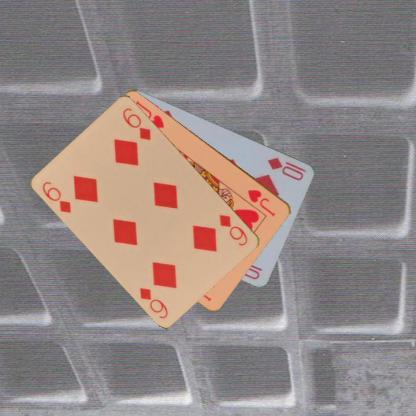10d: (266, 154, 308, 182)
6d: (39, 178, 73, 214), (216, 212, 250, 247)
Jh: (246, 186, 278, 218)
